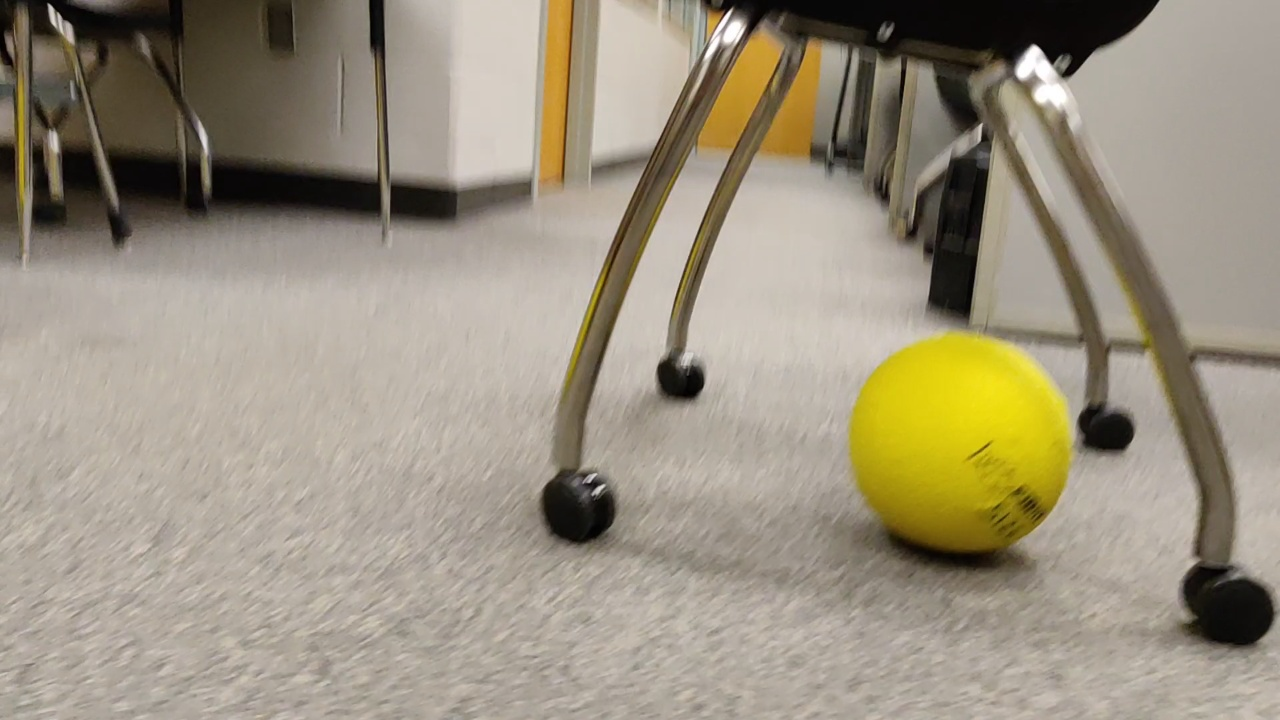Ball: (849, 328, 1087, 563)
